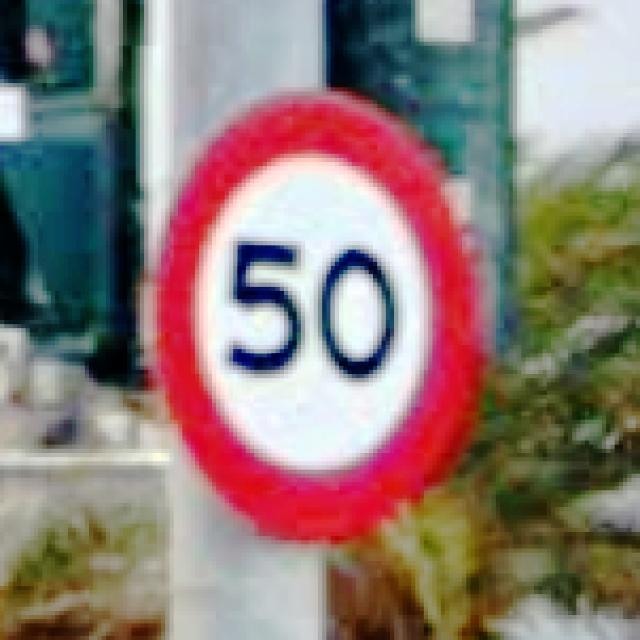max50: (140, 83, 487, 545)
